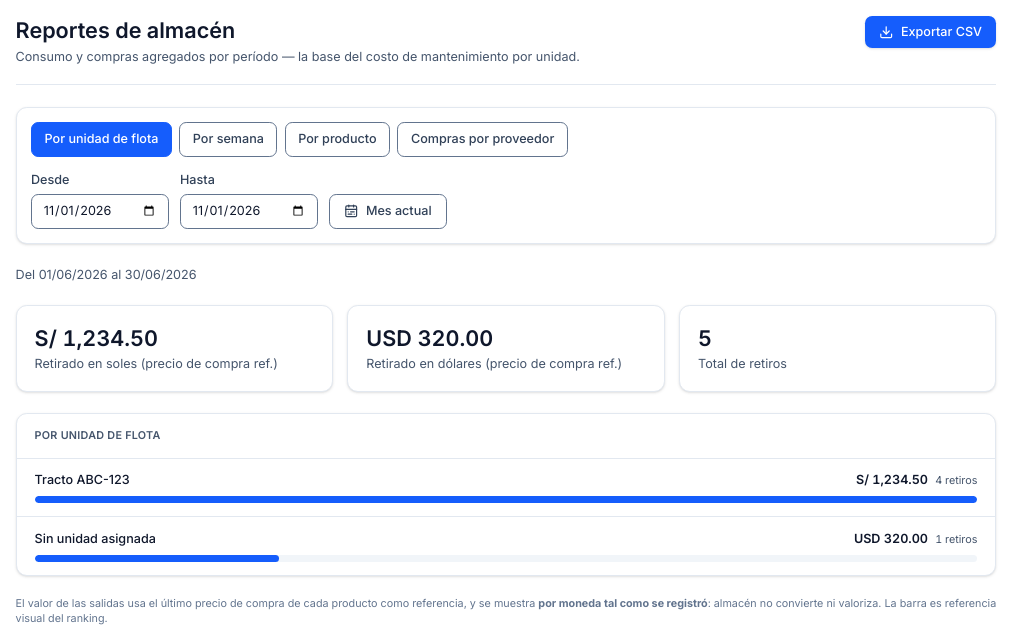
it: WarehouseReportsPage › rotula los montos como compras en el corte por proveedor
Expected: the text "Tracto ABC-123" is shown, [35,471,130,489]
Click the tab "Compras por proveedor": (483, 139) [397,122,568,156]
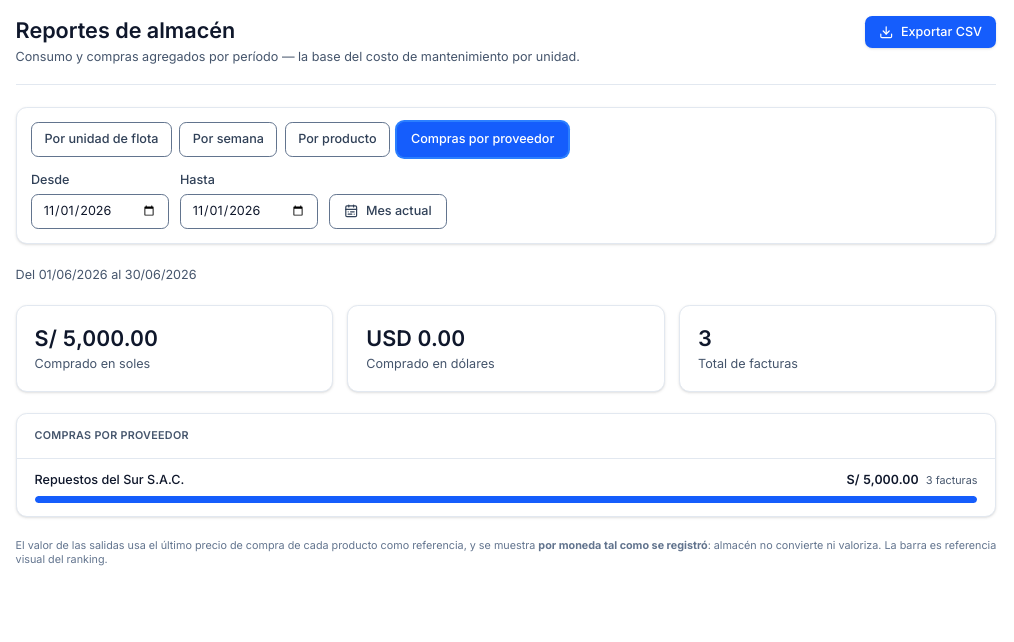
Expected: the text "Comprado en soles" is shown, [35,356,150,371]
Expected: the text "Retirado en soles" is gone
